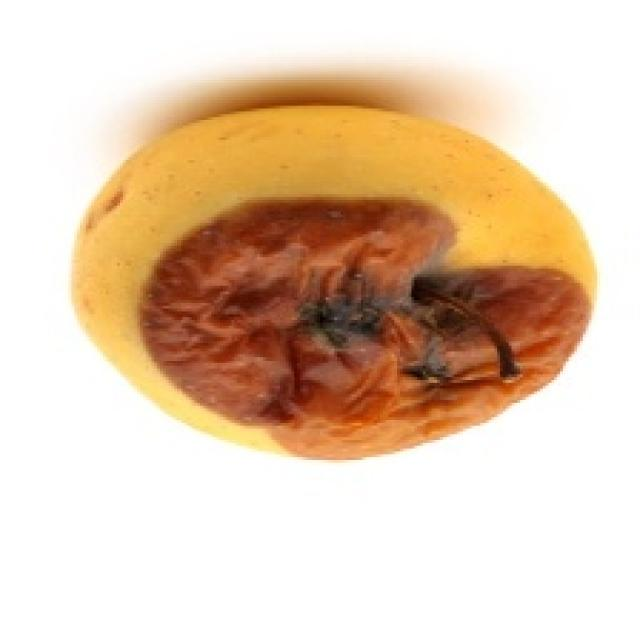rotten_apple: (72, 109, 590, 461)
